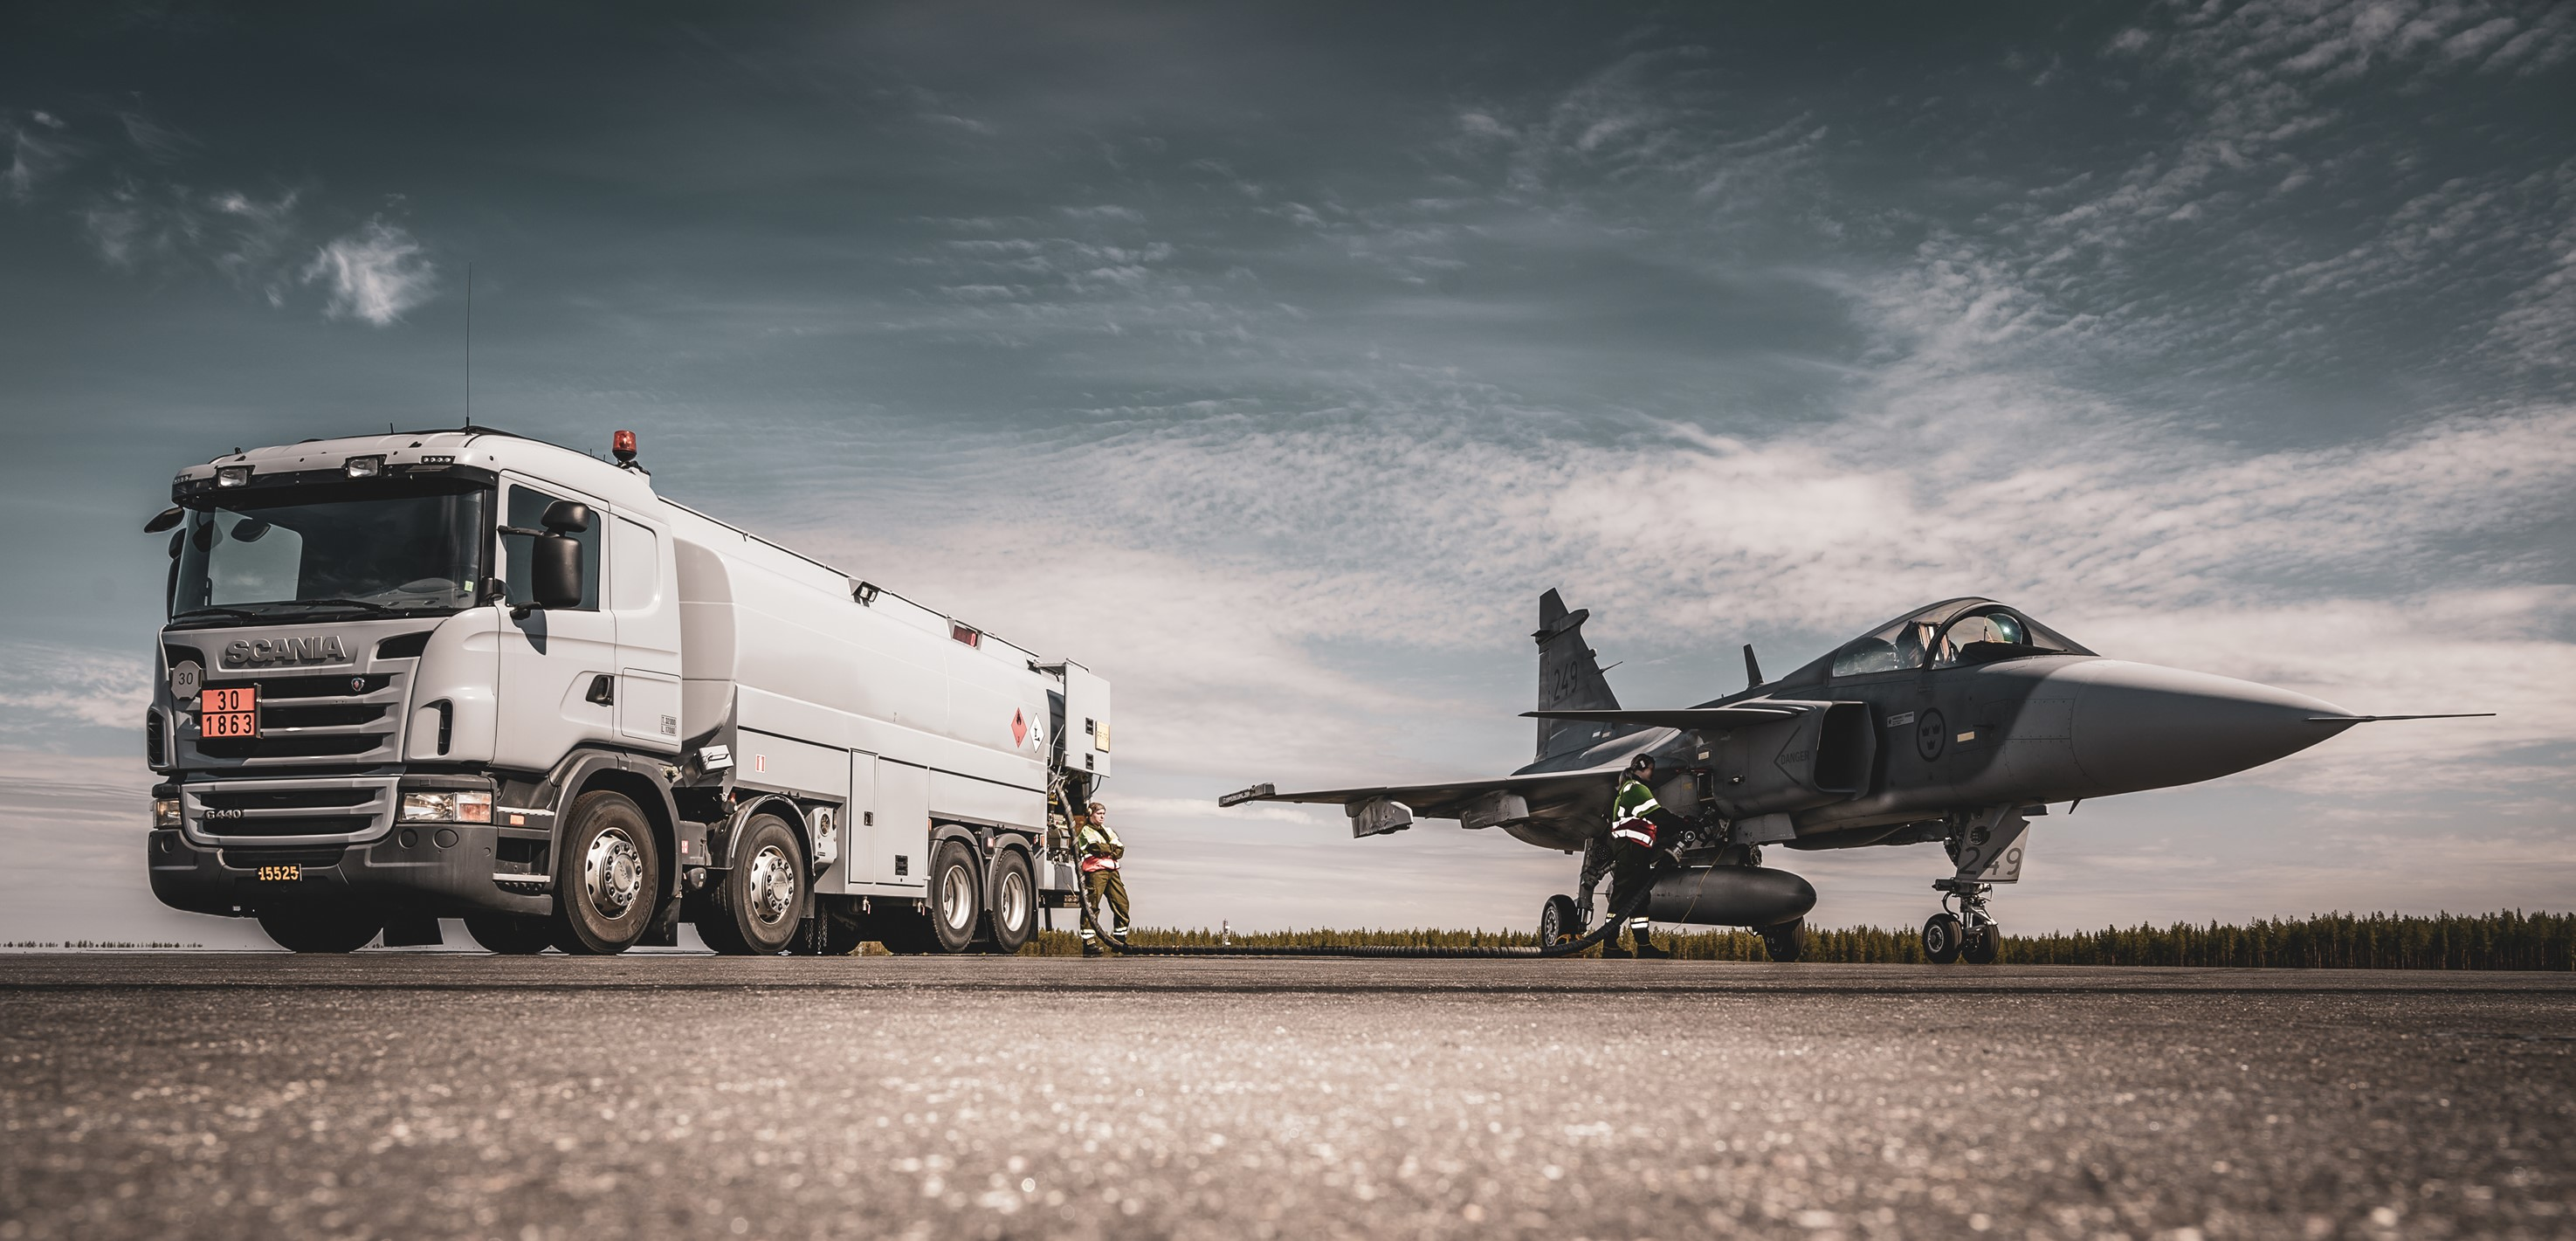JAS39: (1217, 587, 2497, 965)
